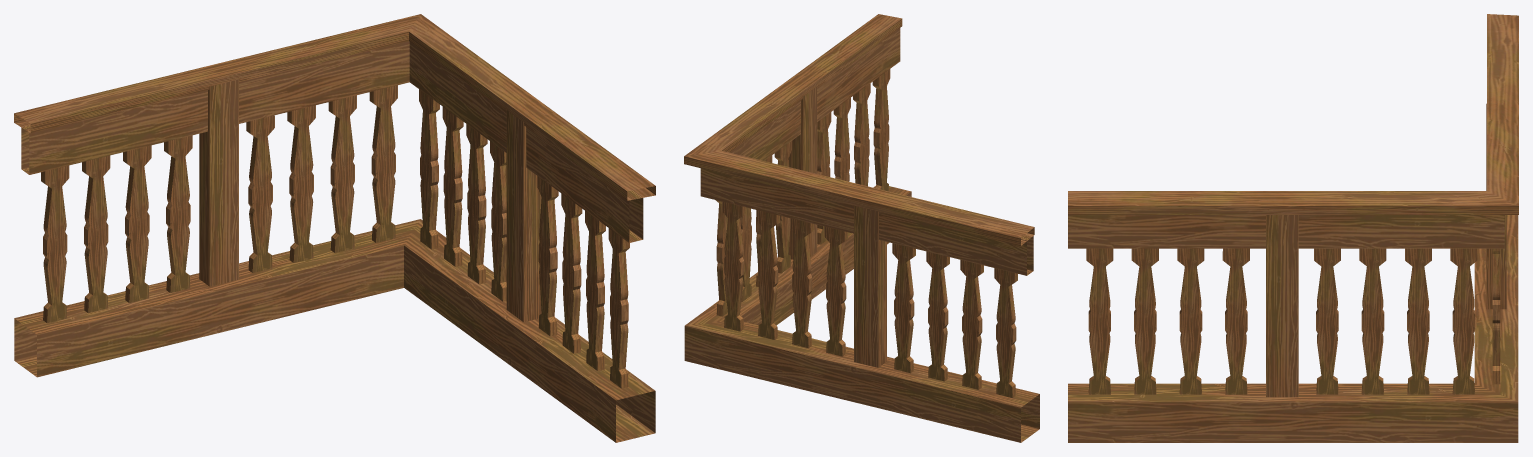
The model's file is Balcony_Simple_Corner.gltf.
The picture shows the model from 3 angles, left to right: view 1: azimuth 30°, elevation 25°; view 2: azimuth 150°, elevation 25°; view 3: azimuth 270°, elevation 25°; orthographic projection. The views are drawn at different scales.
Parts seen in each view (by area): view 1: Balcony_Simple_Corner; view 2: Balcony_Simple_Corner; view 3: Balcony_Simple_Corner.
Part boxes in pixels (bbox=[...]): Balcony_Simple_Corner: bbox=[14, 14, 655, 442]; Balcony_Simple_Corner: bbox=[684, 14, 1039, 442]; Balcony_Simple_Corner: bbox=[1068, 14, 1518, 442].
Bounding box in the file's own units: 2.1 × 1.23 × 2.1.
Materials: 1 (1 with a texture image).
